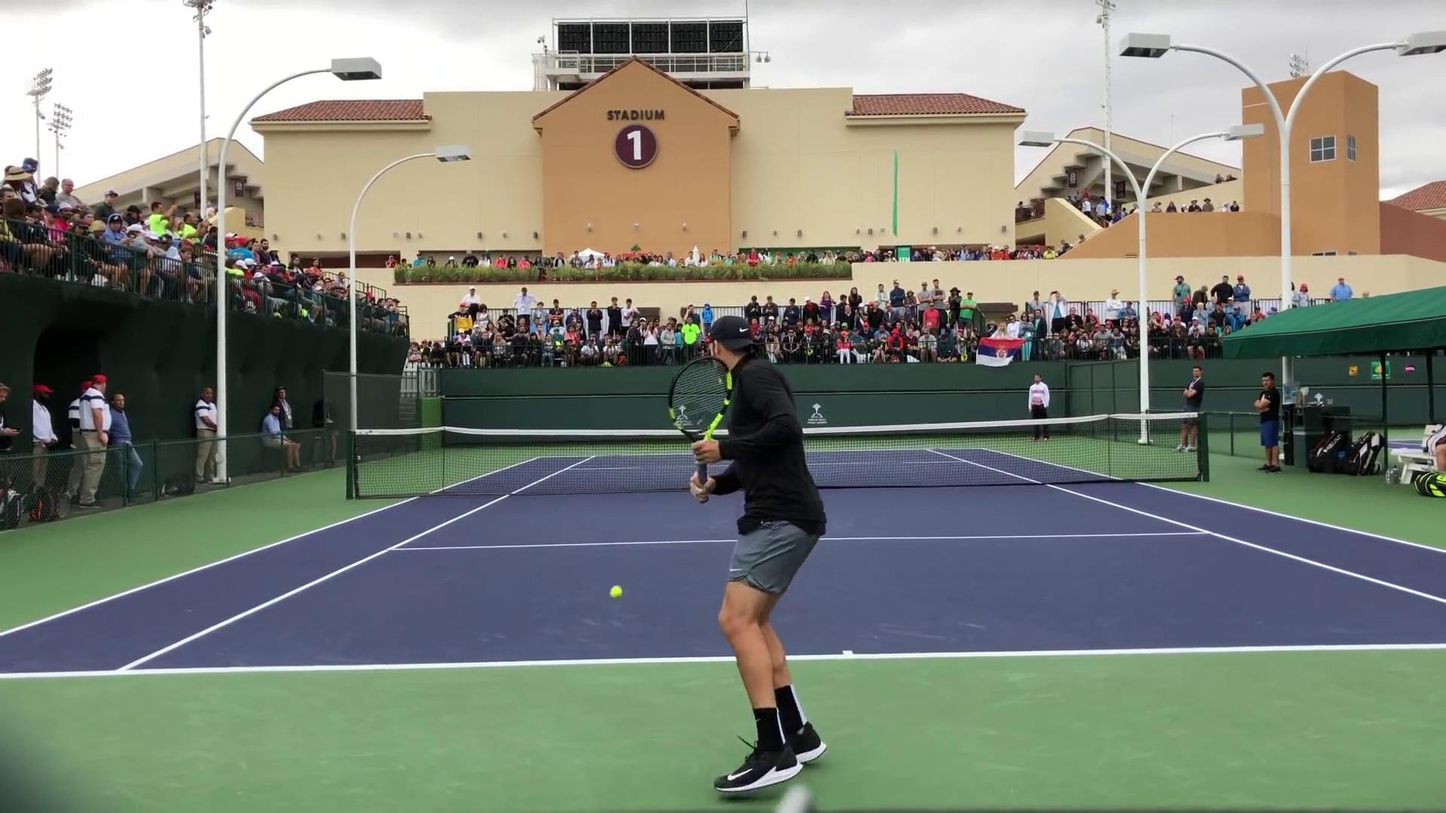ball: (608, 583, 624, 598)
